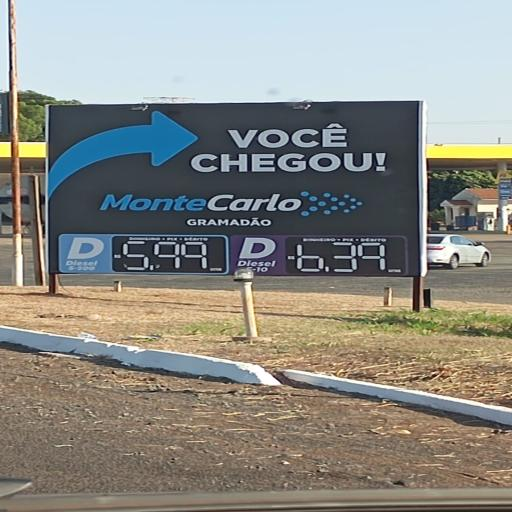S10: (236, 234, 282, 272)
S500: (60, 236, 111, 272)
placa: (47, 103, 422, 279)
preco: (288, 238, 398, 274), (120, 237, 210, 272)
